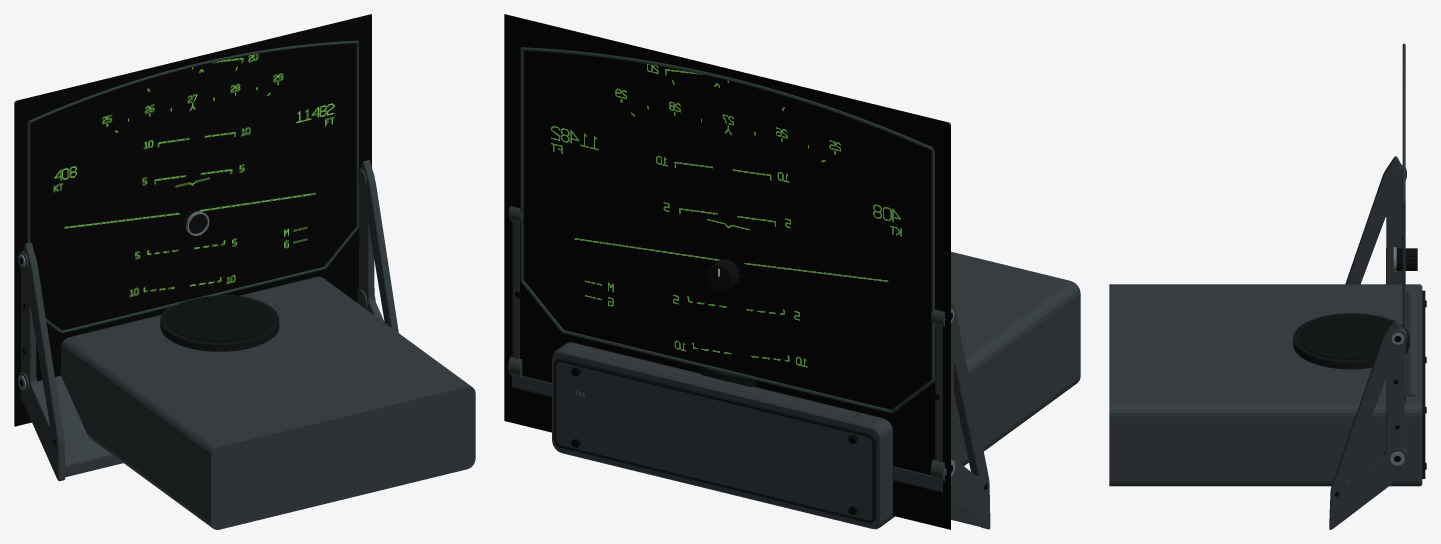
The model's file is MFDStudio.obj.
3 renders of one model, left to right at view 1: azimuth 30°, elevation 25°; view 2: azimuth 150°, elevation 25°; view 3: azimuth 270°, elevation 25°, orthographic. The views are drawn at different scales.
Parts seen in each view (by area): view 1: MFDStudioScreen, MFDStudioBody, MFDStudioCombinerFrame, MFDStudioKnob0; view 2: MFDStudioScreen, MFDStudioBody, MFDStudioCombinerFrame, MFDStudioKnob0; view 3: MFDStudioBody, MFDStudioCombinerFrame, MFDStudioKnob0.
Boxes of the visible parts, <box> form: MFDStudioScreen: <box>14,14,371,426</box>; MFDStudioBody: <box>61,276,475,529</box>; MFDStudioCombinerFrame: <box>18,40,398,481</box>; MFDStudioKnob0: <box>183,209,209,235</box>; MFDStudioScreen: <box>504,14,950,529</box>; MFDStudioBody: <box>552,251,1080,529</box>; MFDStudioCombinerFrame: <box>508,47,990,529</box>; MFDStudioKnob0: <box>706,258,739,291</box>; MFDStudioBody: <box>1109,284,1425,486</box>; MFDStudioCombinerFrame: <box>1329,43,1407,529</box>; MFDStudioKnob0: <box>1393,247,1417,271</box>.
Bounding box in the file's own units: 0.27 × 0.2557 × 0.2115.
Materials: 11 (1 with a texture image).
